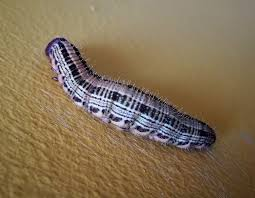Caterpillar: (43, 37, 216, 150)
